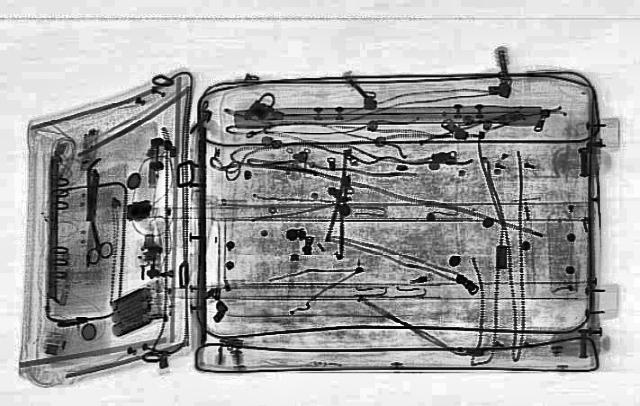Scissors: (74, 217, 116, 263)
